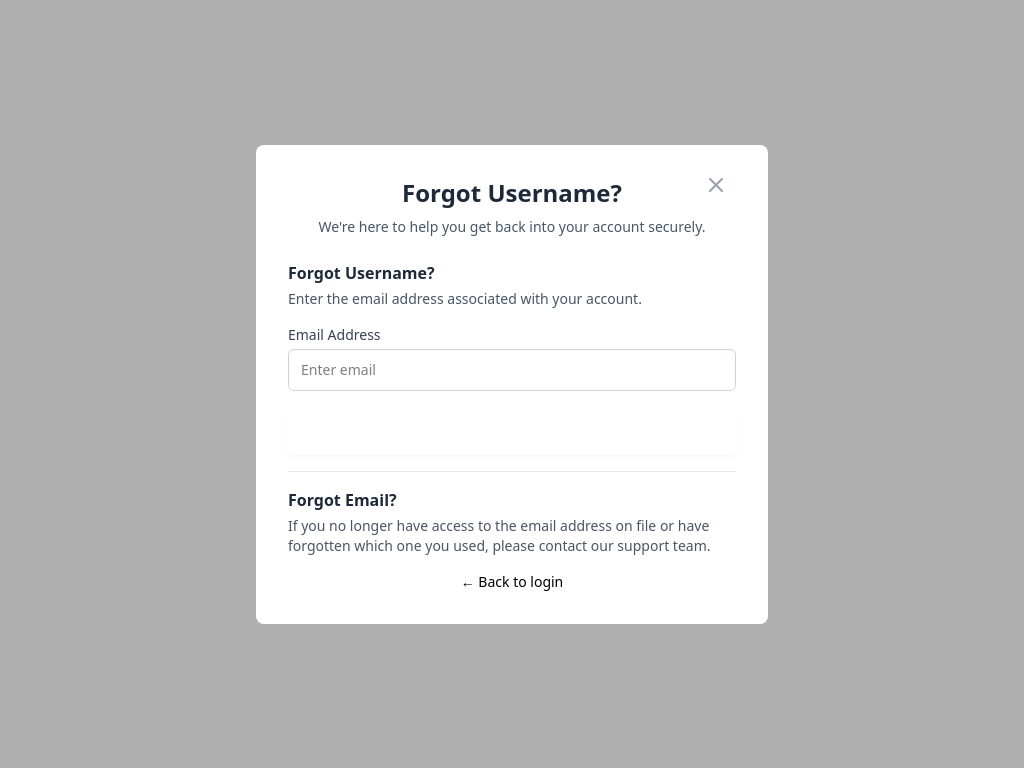
it: ForgotUsernameForm Component › should show and dismiss email check API error banner
Type "user@example.com" into the field with placeholder "Enter email". click: x=512, y=370
box: [288,348,736,390]
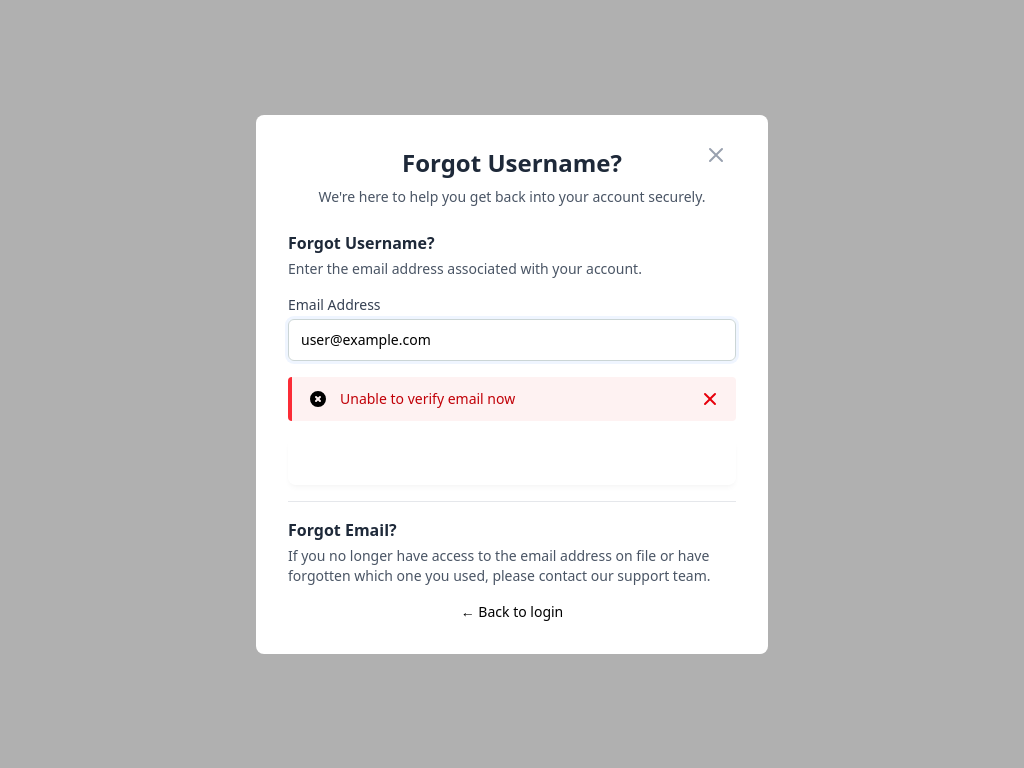
Result: the text "Unable to verify email now" is shown at [340,388,515,408]
Click the button named "dismiss banner". click: x=710, y=398
box: [700,388,720,408]
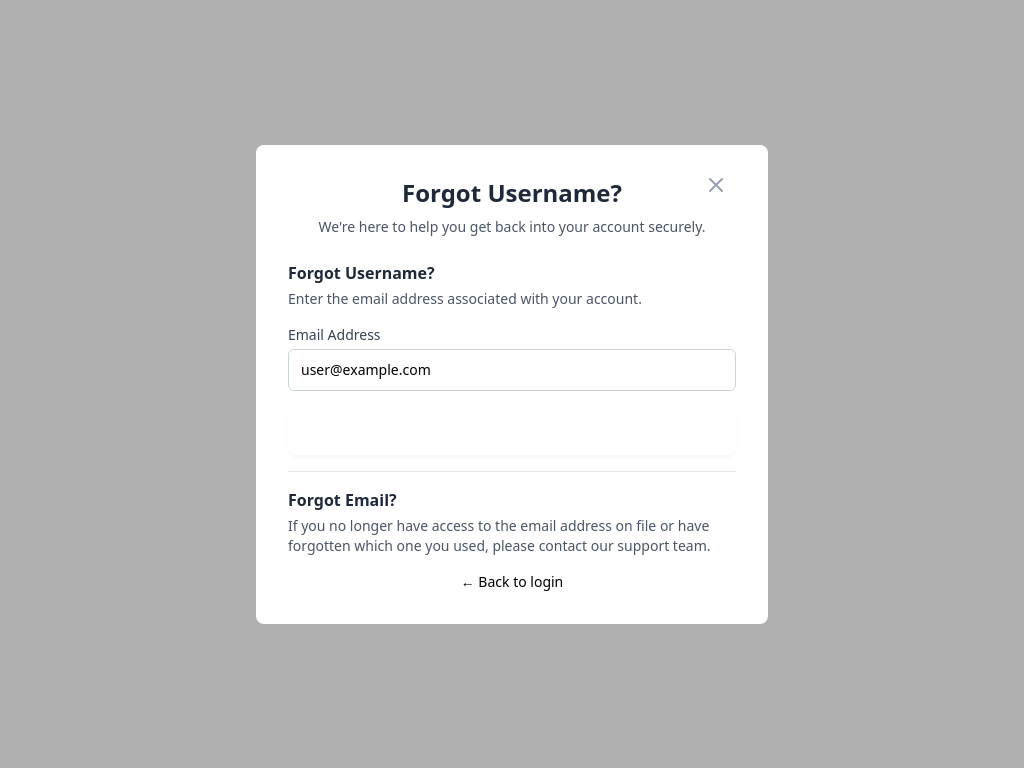
Result: the text "Unable to verify email now" is gone
